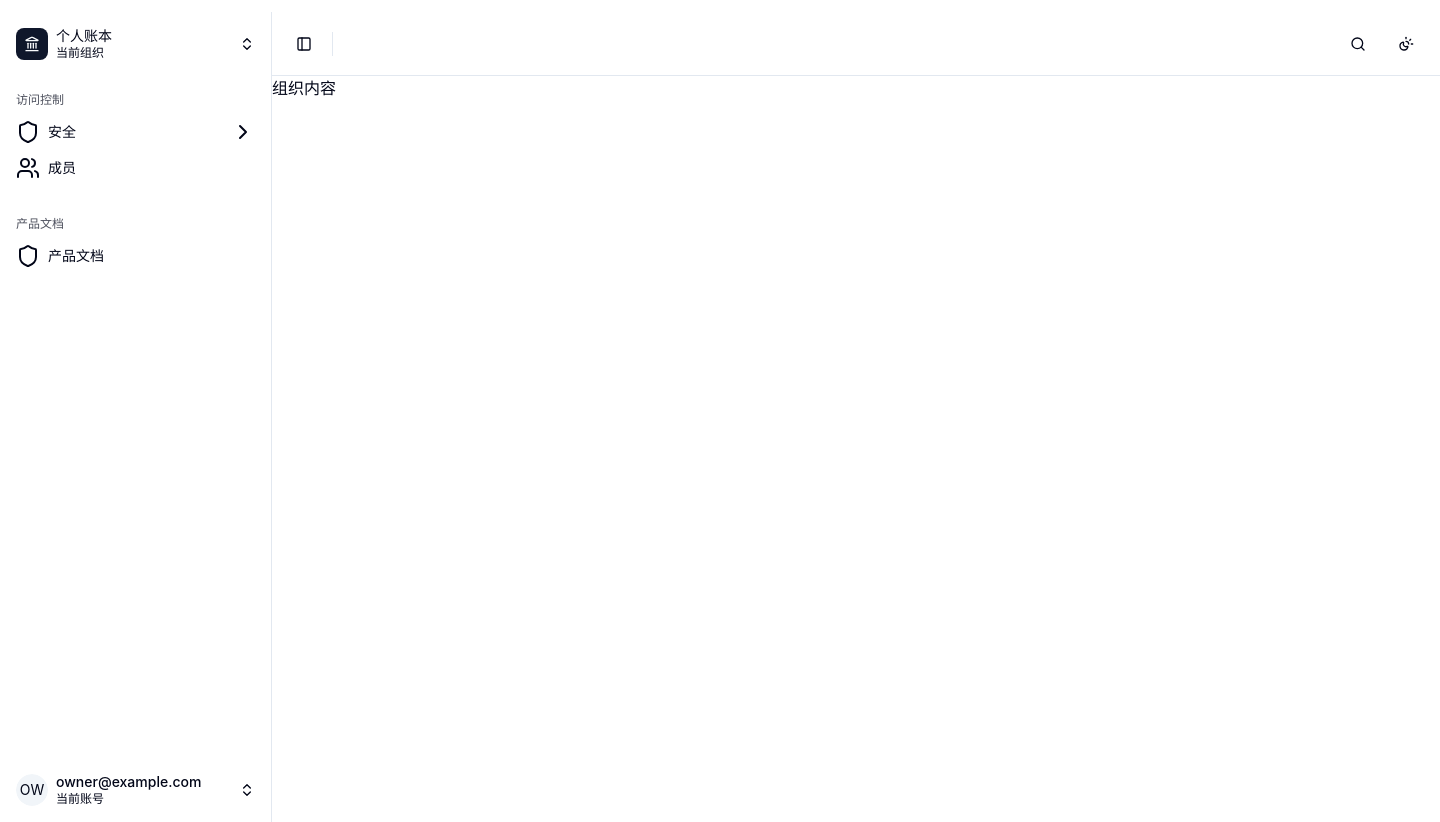
Test: AuthenticatedLayout › 组织切换失败后恢复旧菜单并显示全局错误反馈
This screenshot has width=1440, height=822.
Click the button "个人账本 当前组织".
click(136, 44)  # box x1=8 y1=20 x2=263 y2=68
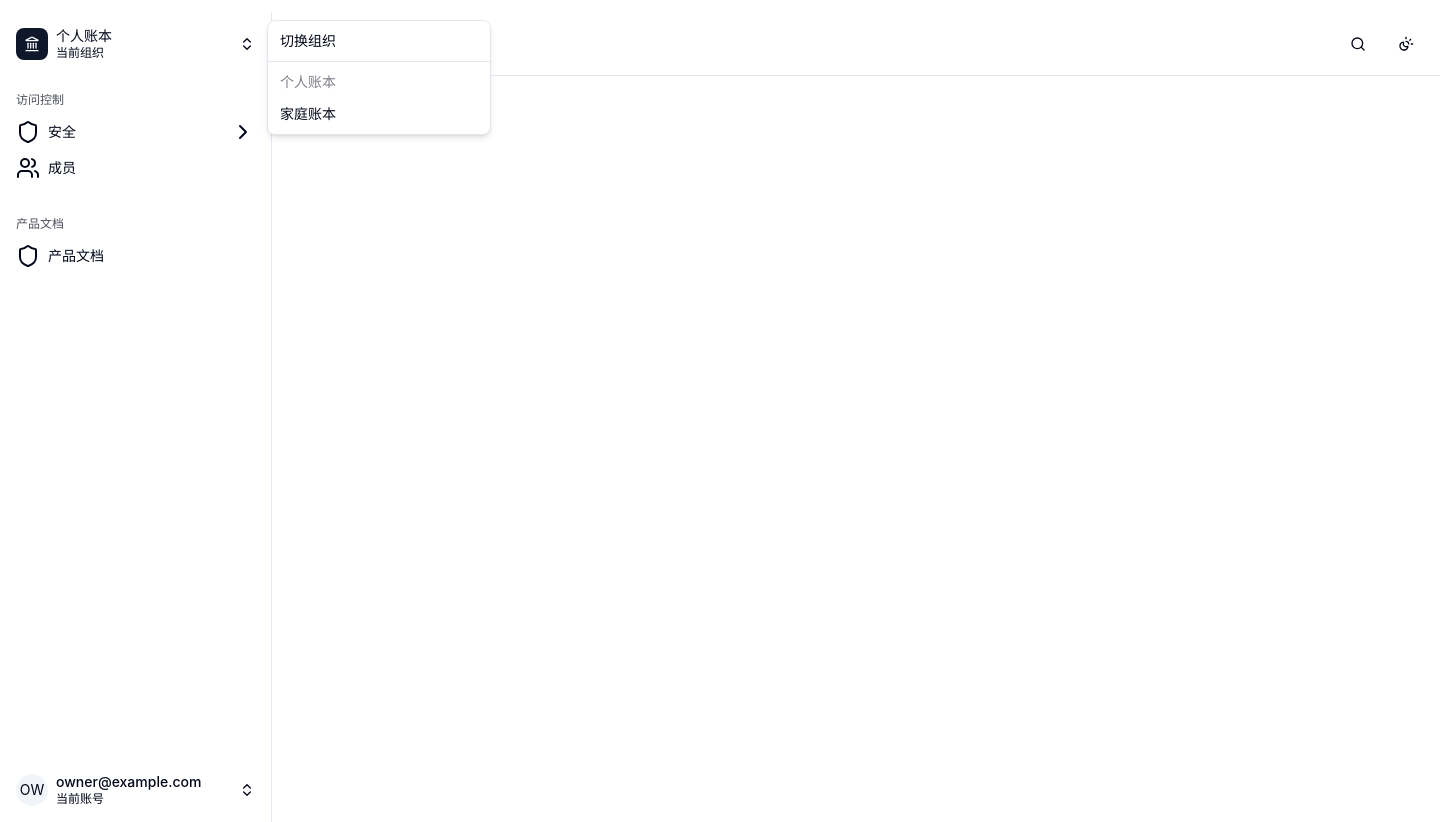
Click the menu item "家庭账本".
click(308, 114)  # box x1=280 y1=105 x2=336 y2=122
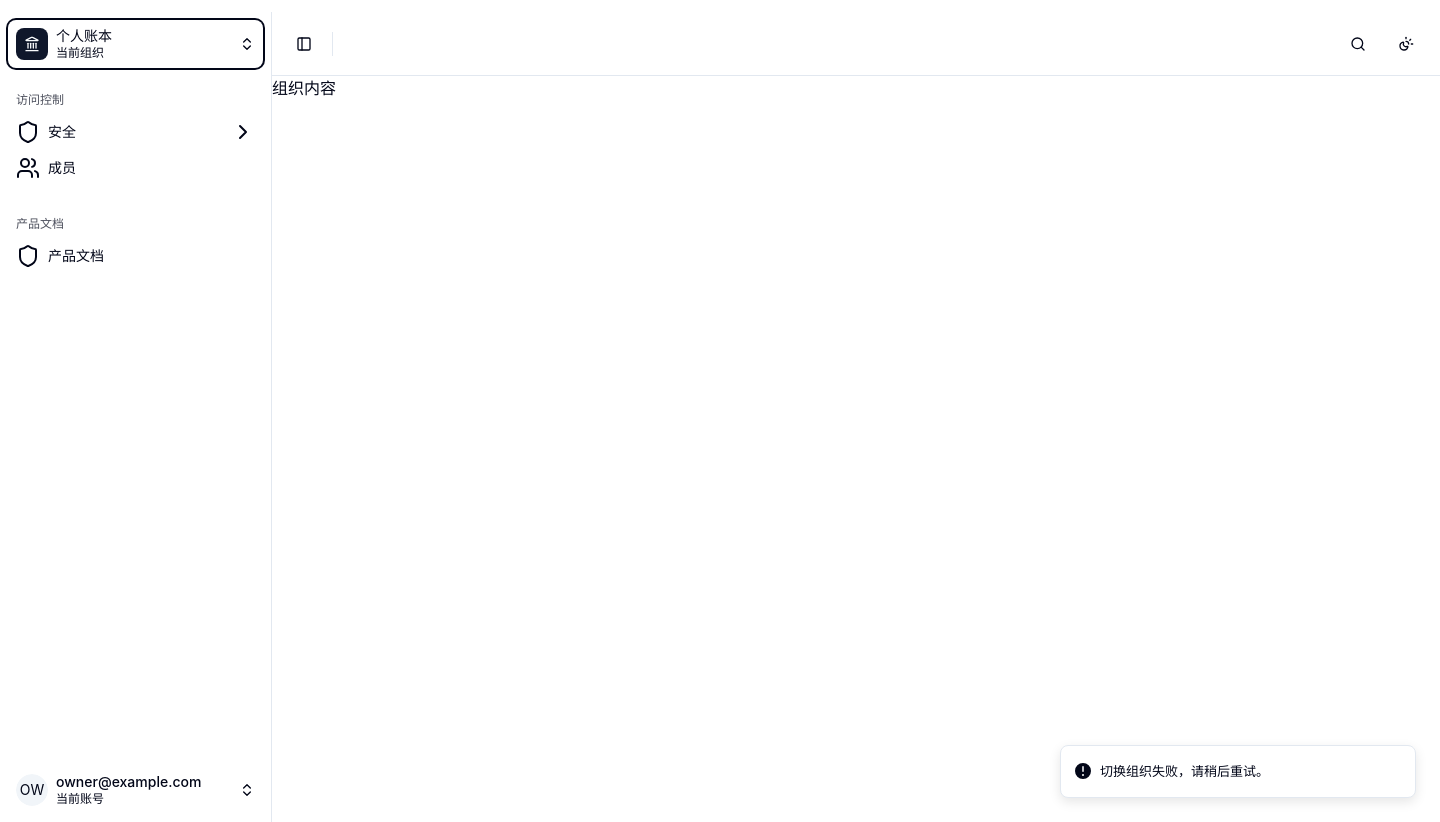
Check: the text "组织内容" is shown, box x1=272 y1=78 x2=336 y2=98
Check: the text "切换组织失败，请稍后重试。" is shown, box x1=1100 y1=762 x2=1269 y2=780
